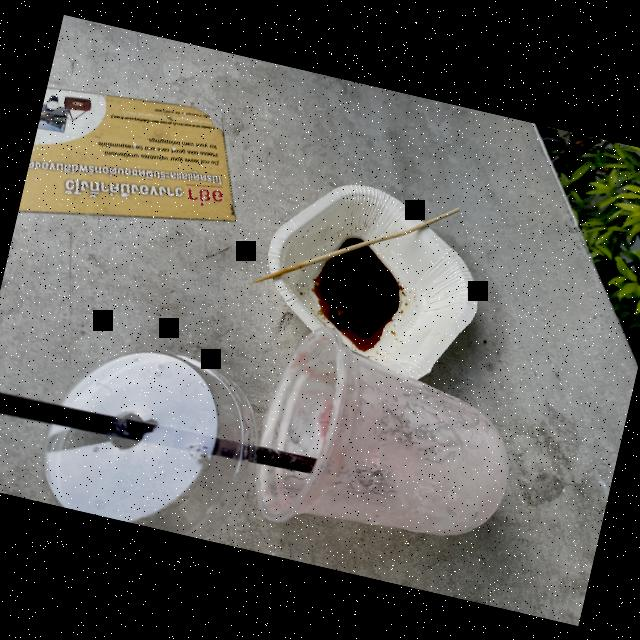cardboard_bowl: (232, 160, 500, 399)
plastic_cup: (242, 314, 536, 573)
plastic_cup_lid: (31, 322, 278, 546)
stick: (252, 161, 468, 329)
straw: (0, 374, 324, 497)
